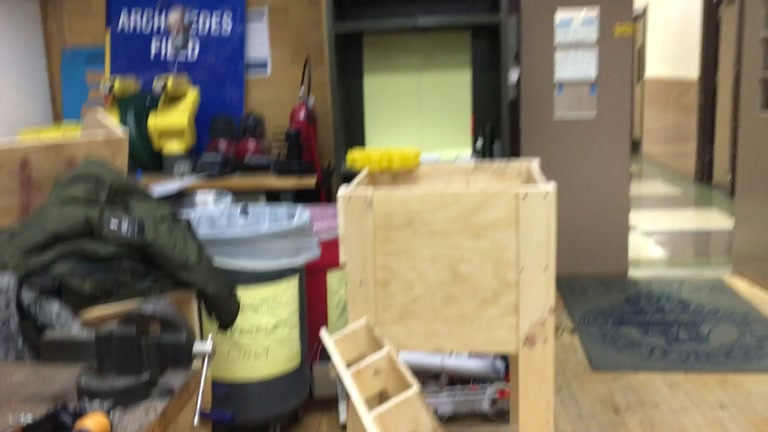gear: (345, 144, 421, 173)
